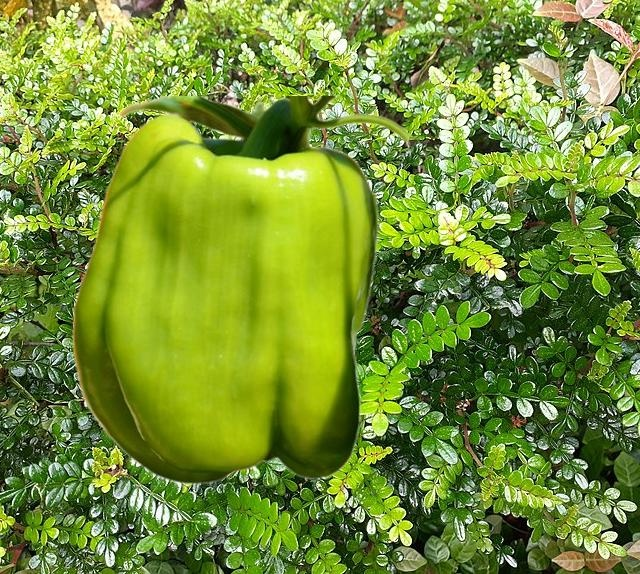bell_pepper: (71, 96, 409, 484)
